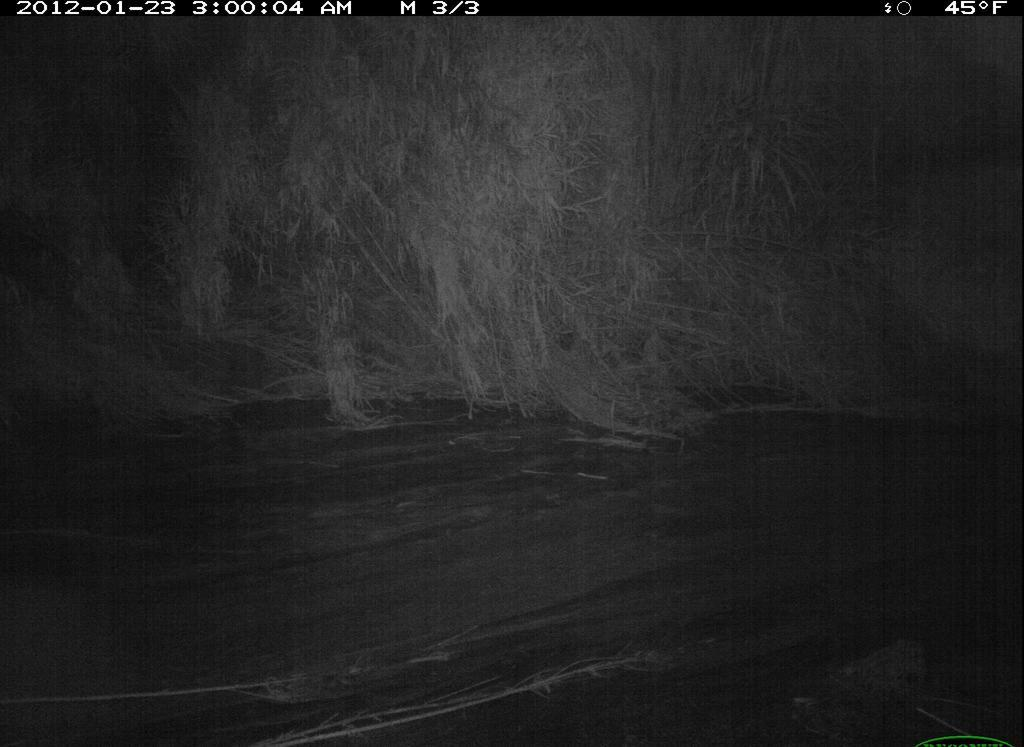opossum: (834, 638, 930, 692)
